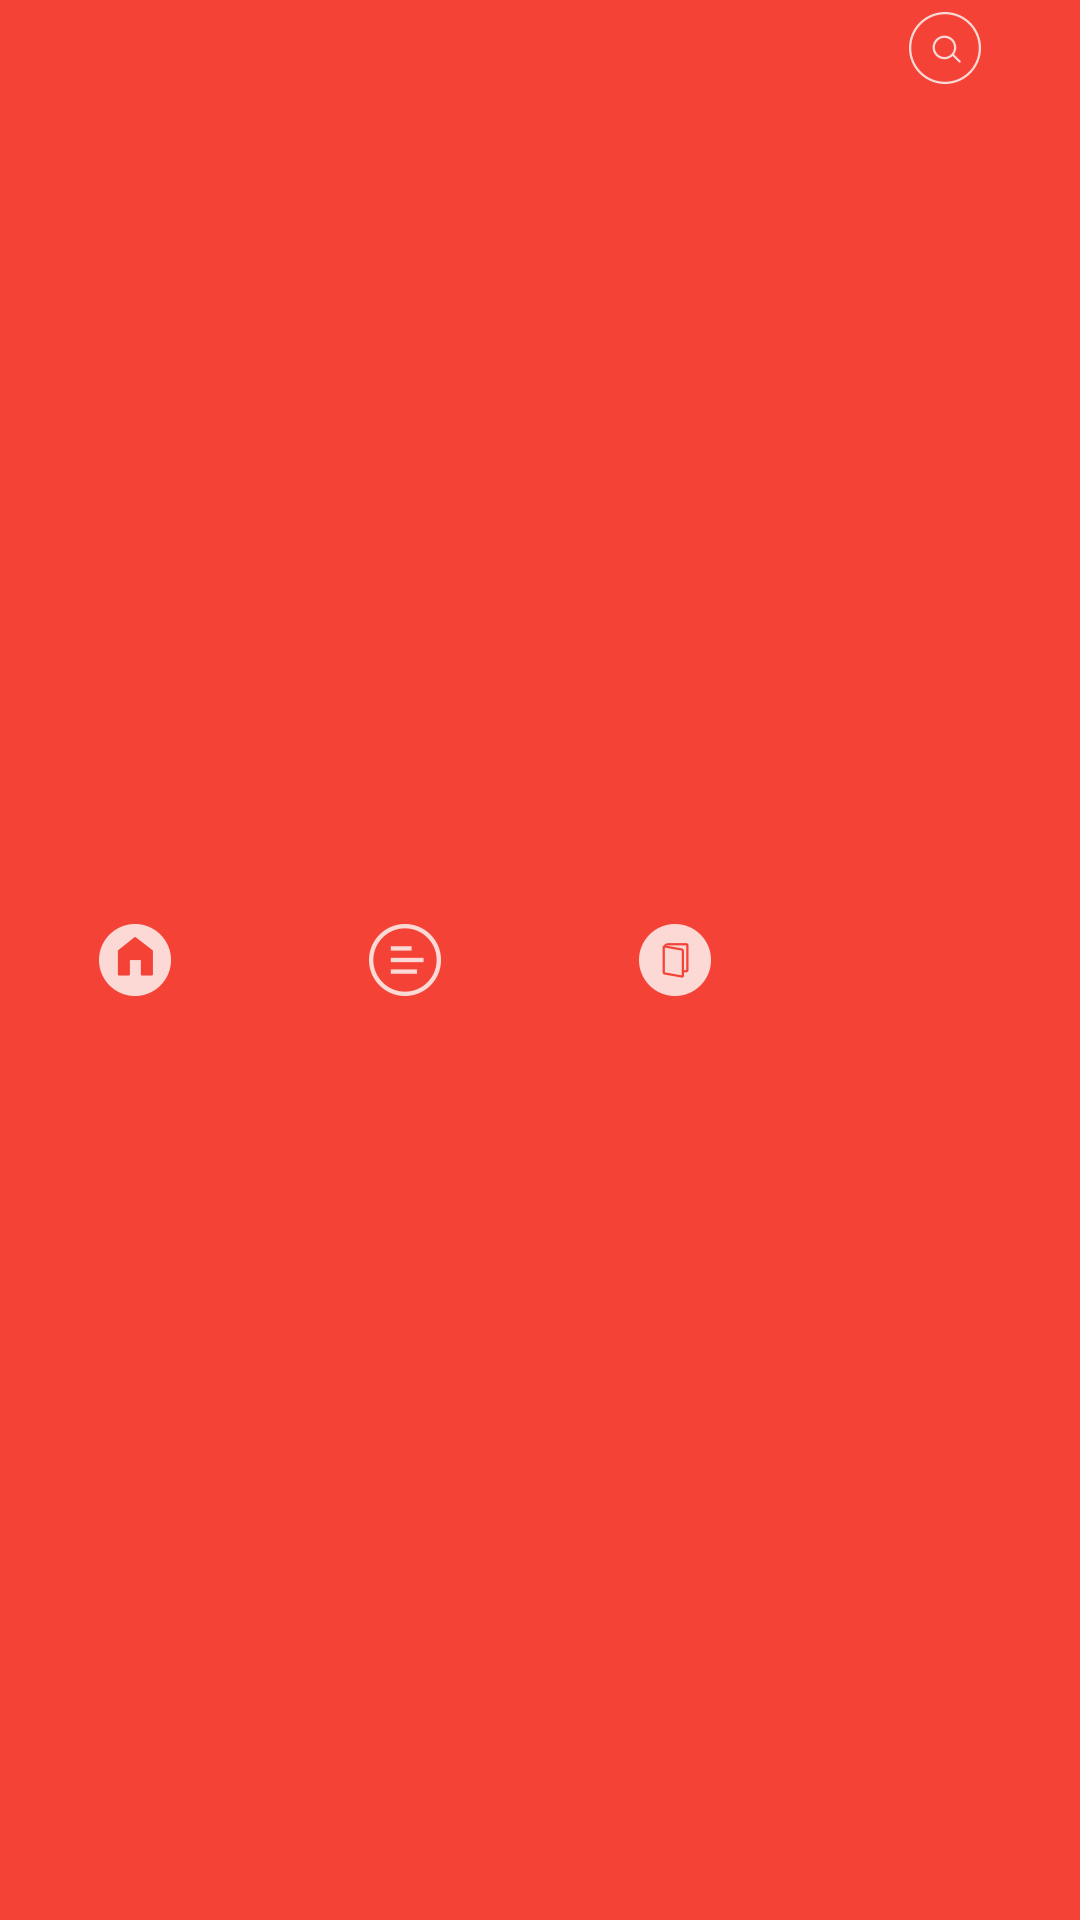

Icon bounding boxes for this 1080 × 1920 phone screenshot, format box=[x1, y1, x2, y2]:
homeround: box=[99, 924, 171, 996]
roundsearch: box=[909, 12, 981, 84]
